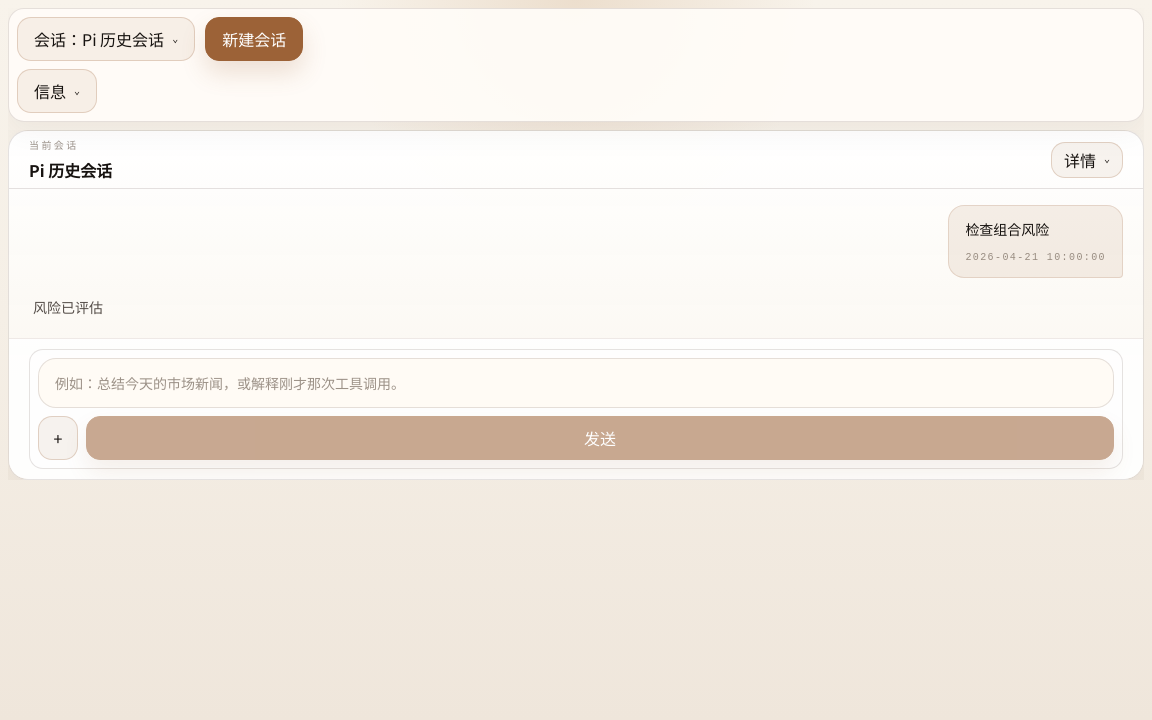
PiAgentPage › 显示会话入口，并可展开线程栏
The width and height of the screenshot is (1152, 720).
Click the button with test id "agent-open-history-overlay".
click(106, 39)  # box [17,17,195,61]
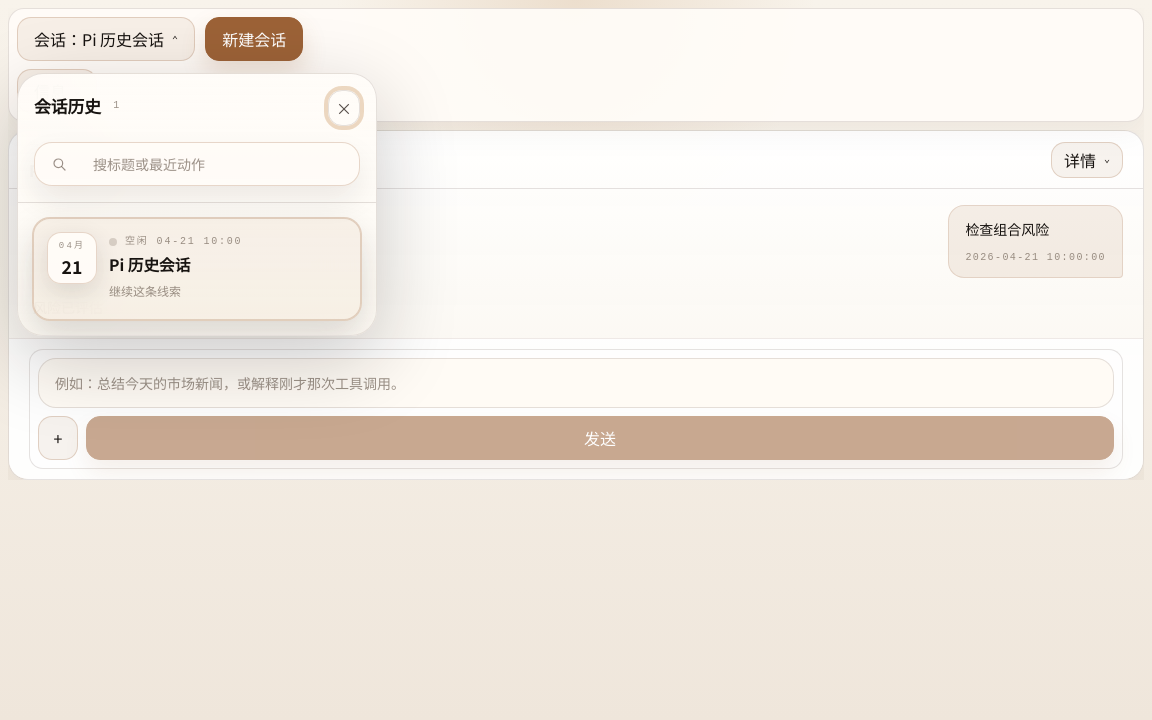
Result: the search field named "搜索会话" is shown at [79,144,343,184]
